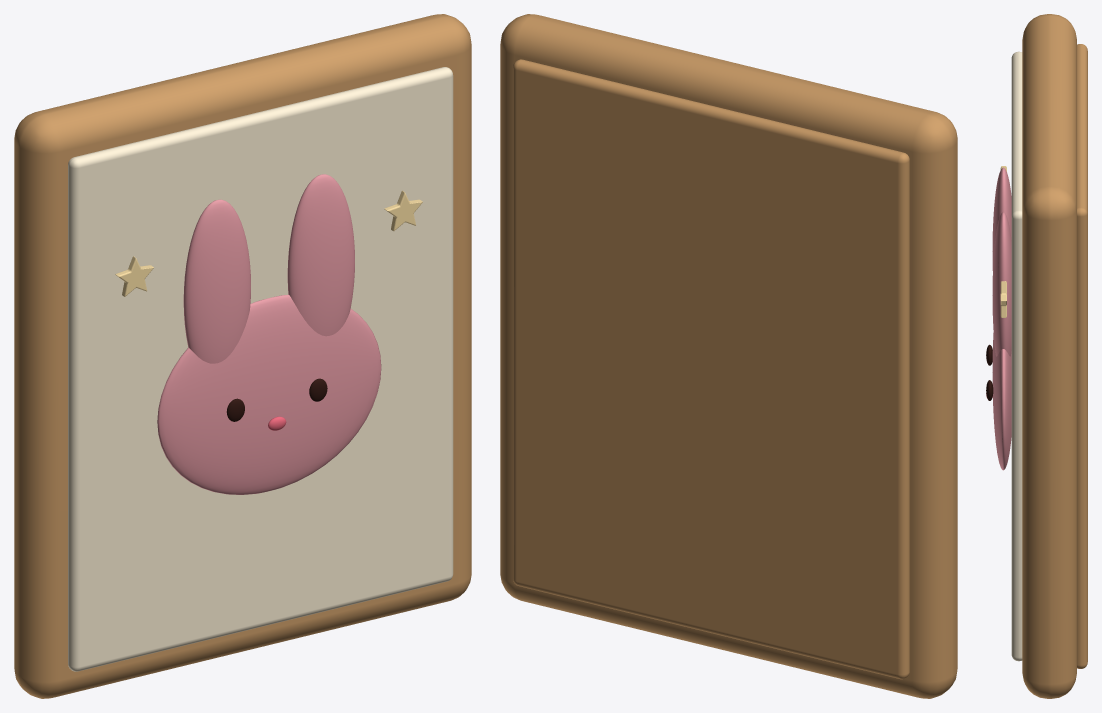
The model's file is WallArtBunny.fbx.
3 renders of one model, left to right at view 1: azimuth 30°, elevation 25°; view 2: azimuth 150°, elevation 25°; view 3: azimuth 270°, elevation 25°, orthographic. The views are drawn at different scales.
Parts seen in each view (by area): view 1: Inset ivory canvas, Rounded maple frame, Flat bunny head, Flat bunny ear, Flat bunny ear.001, Puffy star, Puffy star.001; view 2: Back panel, Rounded maple frame; view 3: Rounded maple frame, Inset ivory canvas, Back panel, Flat bunny ear.001, Flat bunny head, Flat bunny ear, Puffy star.001.
Boxes of the visible parts, x1,y1,x2,y2 form: Inset ivory canvas: [68, 67, 453, 671]; Rounded maple frame: [14, 14, 471, 698]; Flat bunny head: [157, 294, 381, 494]; Flat bunny ear: [183, 199, 250, 363]; Flat bunny ear.001: [287, 174, 354, 336]; Puffy star: [115, 256, 153, 296]; Puffy star.001: [384, 190, 422, 231]; Back panel: [513, 59, 909, 679]; Rounded maple frame: [500, 14, 957, 698]; Rounded maple frame: [1022, 14, 1076, 698]; Inset ivory canvas: [1011, 51, 1022, 661]; Back panel: [1077, 44, 1087, 668]; Flat bunny ear.001: [992, 212, 1011, 356]; Flat bunny head: [992, 333, 1011, 470]; Flat bunny ear: [992, 167, 1011, 270]; Puffy star.001: [1000, 281, 1006, 317].
Bounding box in the file's own units: 0.5 × 0.62 × 0.112.
Materials: 6 (5 with a texture image).
